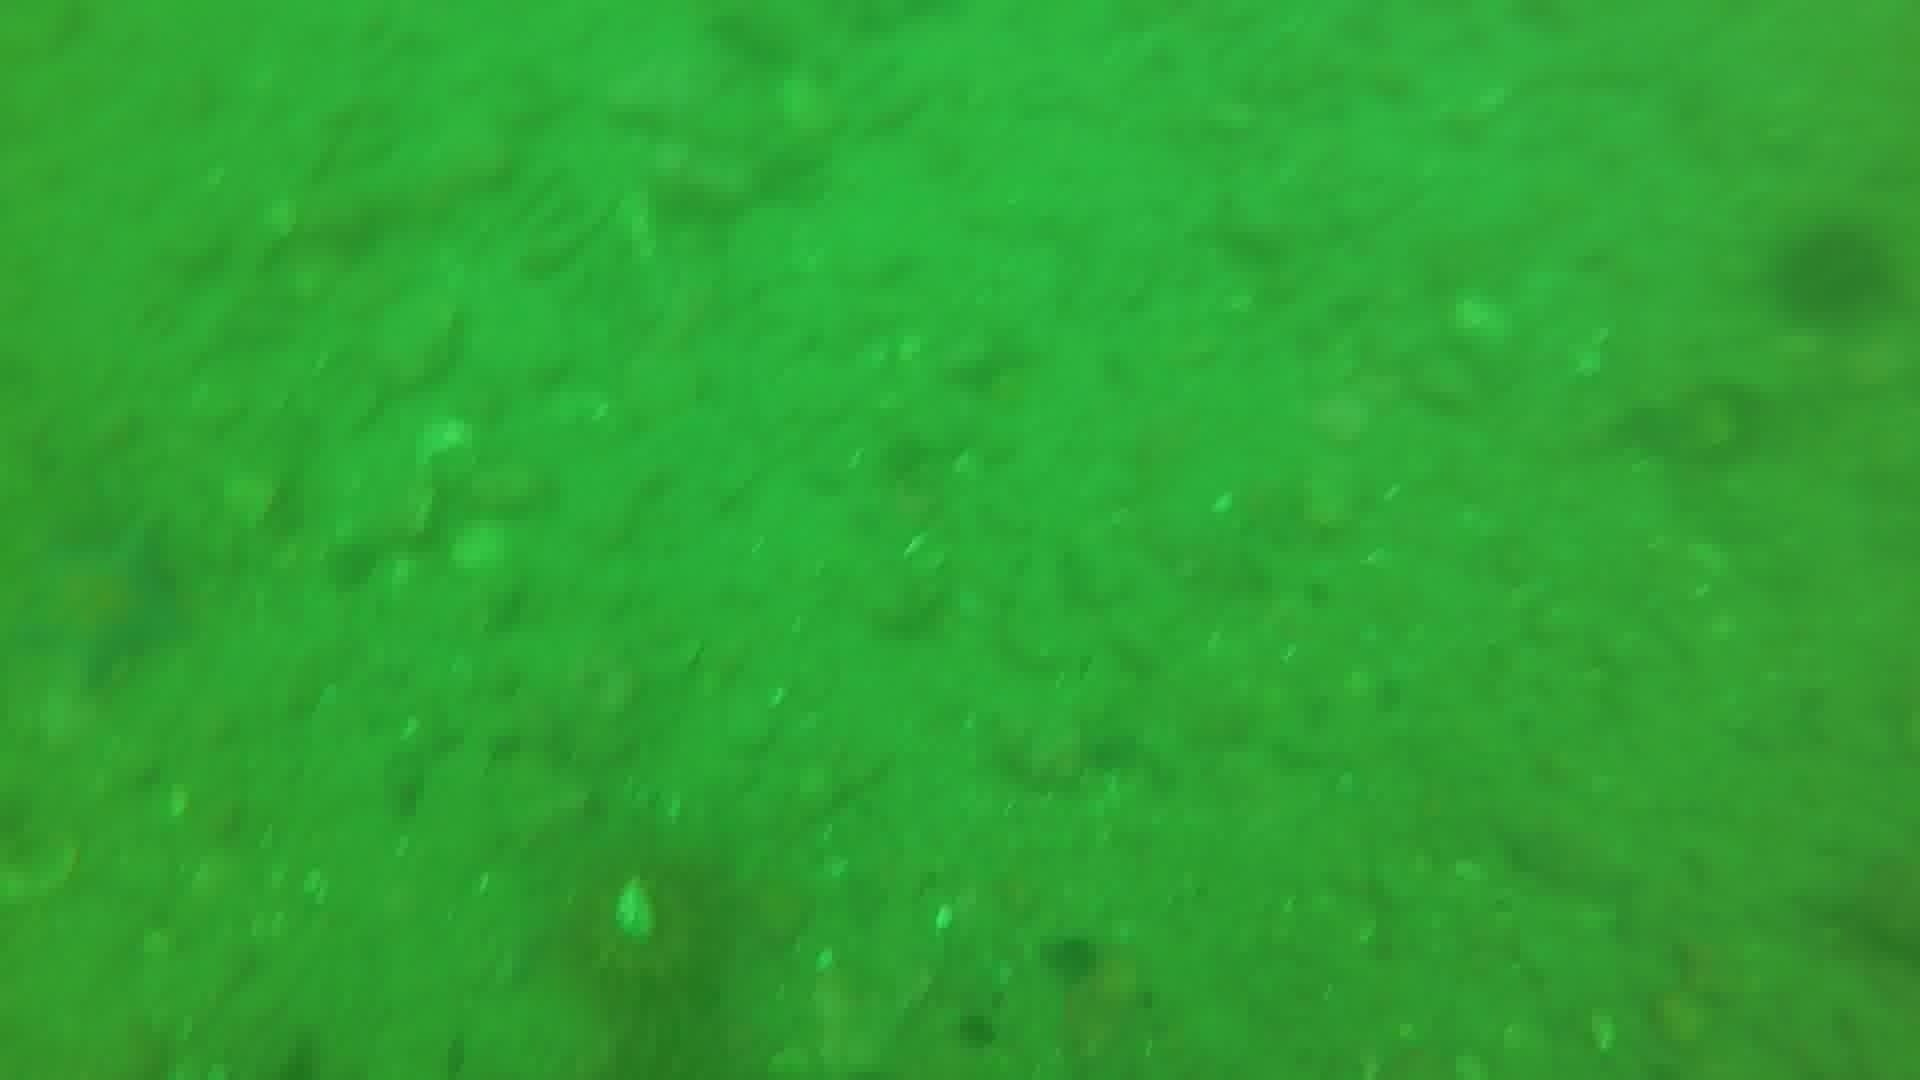echinus: (533, 804, 765, 1044), (1767, 218, 1898, 334), (1035, 928, 1109, 992)
starfish: (15, 516, 196, 695)
